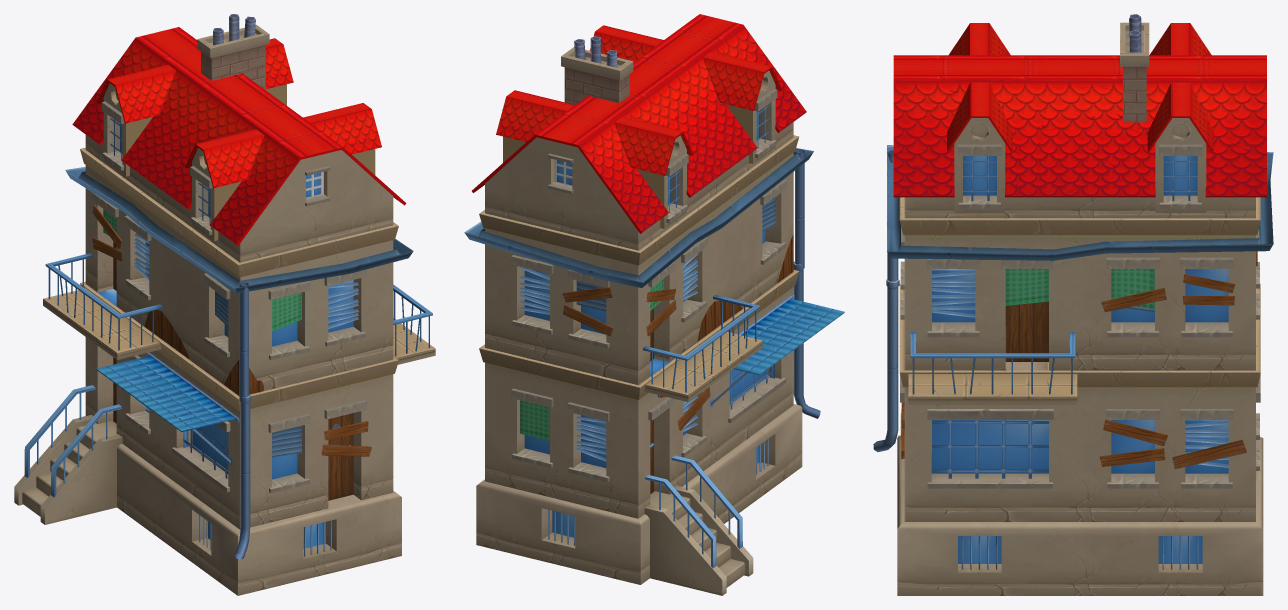
File: Building_01_4_LOD1.fbx
3 renders of one model, left to right at view 1: azimuth 30°, elevation 25°; view 2: azimuth 150°, elevation 25°; view 3: azimuth 270°, elevation 25°, orthographic. The views are drawn at different scales.
Visible parts, largest first — view 1: polySurface3655; view 2: polySurface3655; view 3: polySurface3655.
Boxes of the visible parts, left/top/right/bottom form: polySurface3655: left=14, top=14, right=435, bottom=595; polySurface3655: left=464, top=14, right=844, bottom=595; polySurface3655: left=873, top=14, right=1273, bottom=595.
Size of the model in its own units: 719 by 1197 by 797.
